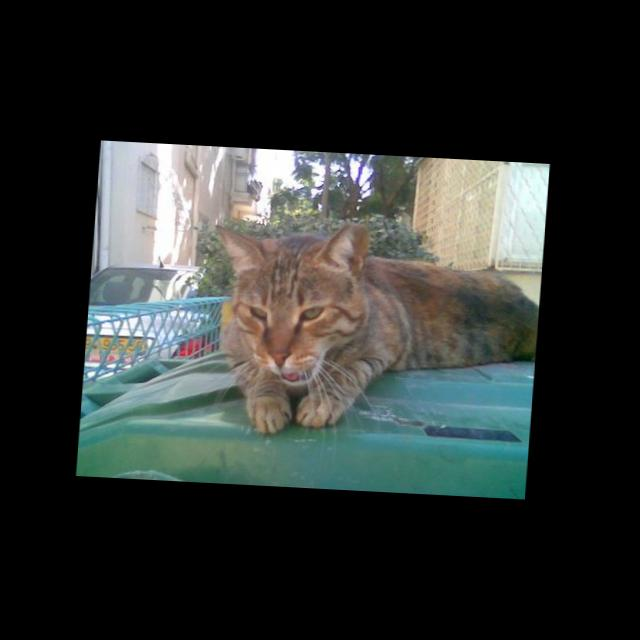animals: (209, 217, 362, 366)
